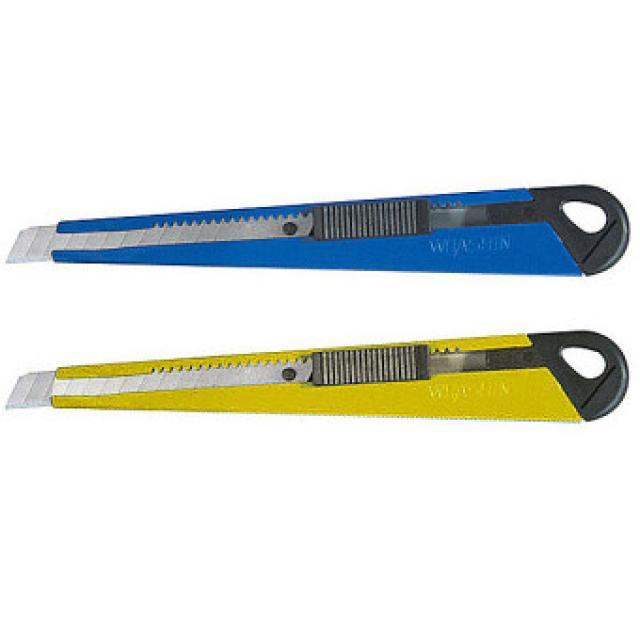cutter: (0, 165, 632, 296), (0, 331, 640, 438)
